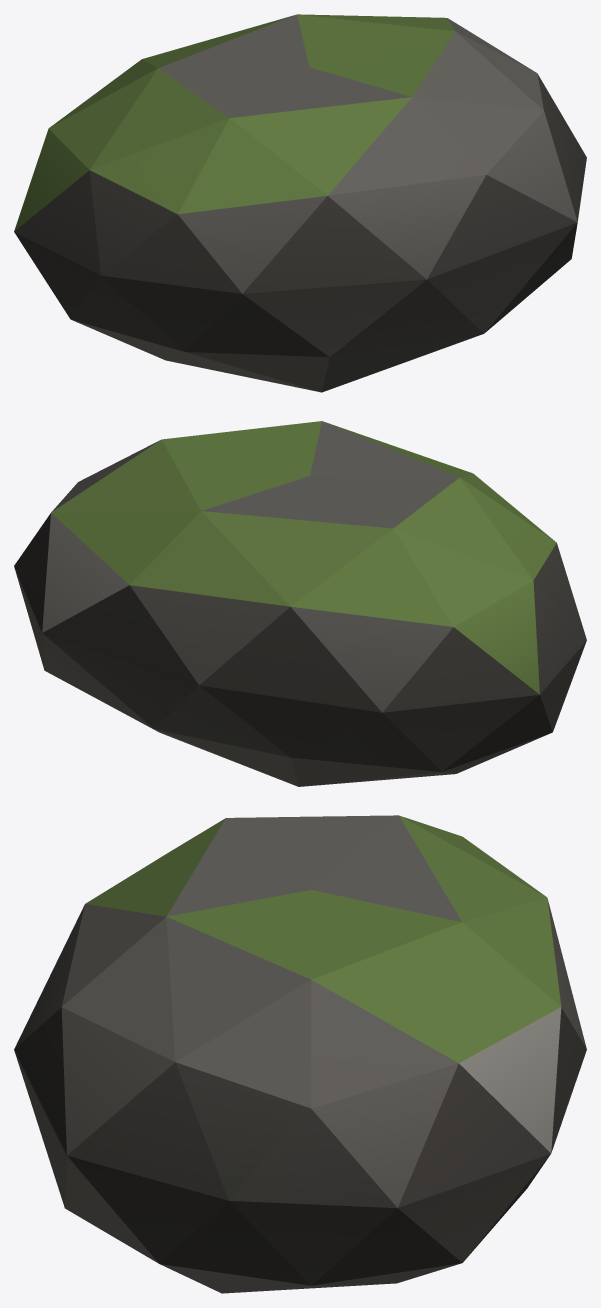
File: creek_stone_a_low.glb
3 renders of one model, top to bottom at view 1: azimuth 30°, elevation 25°; view 2: azimuth 150°, elevation 25°; view 3: azimuth 270°, elevation 25°, orthographic. The views are drawn at different scales.
Visible parts, largest first — view 1: creek_stone_a; view 2: creek_stone_a; view 3: creek_stone_a.
Part boxes in pixels (box(x1,y1,x2,y2)): creek_stone_a: box(14, 14, 586, 392); creek_stone_a: box(14, 421, 586, 786); creek_stone_a: box(14, 815, 586, 1293).
Size of the model in its own units: 0.9001 by 0.49 by 0.6822.
